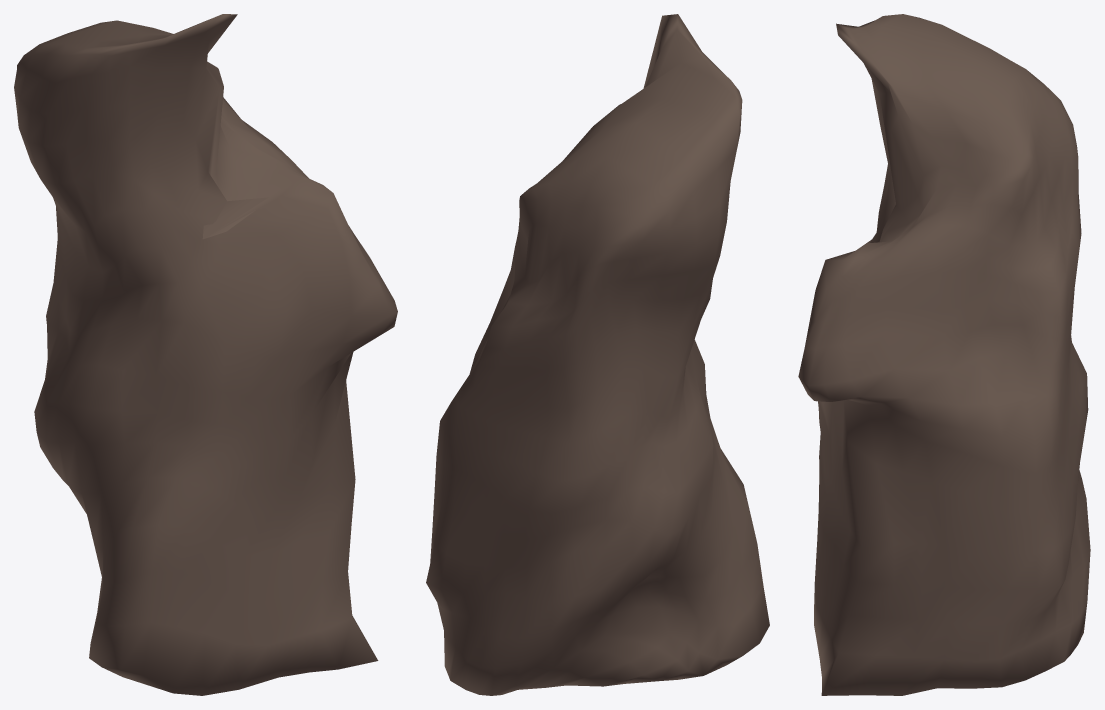
The model's file is rock1.fbx.
The picture shows the model from 3 angles, left to right: view 1: azimuth 30°, elevation 25°; view 2: azimuth 150°, elevation 25°; view 3: azimuth 270°, elevation 25°; orthographic projection. The views are drawn at different scales.
Visible parts, largest first — view 1: pCube5; view 2: pCube5; view 3: pCube5.
Boxes of the visible parts, box(x1,y1,x2,y2) form: pCube5: box(14, 14, 397, 695); pCube5: box(426, 14, 769, 695); pCube5: box(798, 14, 1090, 695).
Bounding box in the file's own units: 123 × 277 × 121.
